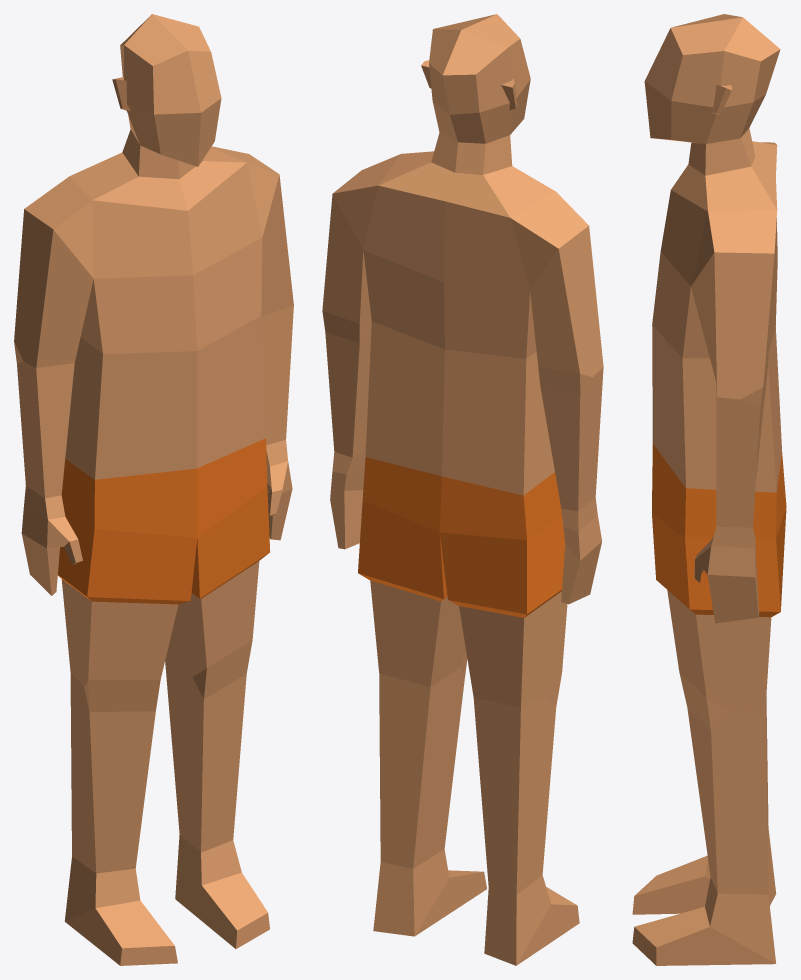
File: man-swimming.glb
3 views of the same model, side by side, from view 1: azimuth 30°, elevation 25°; view 2: azimuth 150°, elevation 25°; view 3: azimuth 270°, elevation 25° (orthographic).
Parts seen in each view (by area): view 1: man-swimming; view 2: man-swimming; view 3: man-swimming.
Part boxes in pixels (box(x1,y1,x2,y2)): man-swimming: box(14, 14, 293, 965); man-swimming: box(322, 14, 603, 965); man-swimming: box(632, 14, 786, 965).
Size of the model in its own units: 0.5384 by 1.79 by 0.2741.
Materials: 1 (1 with a texture image).
